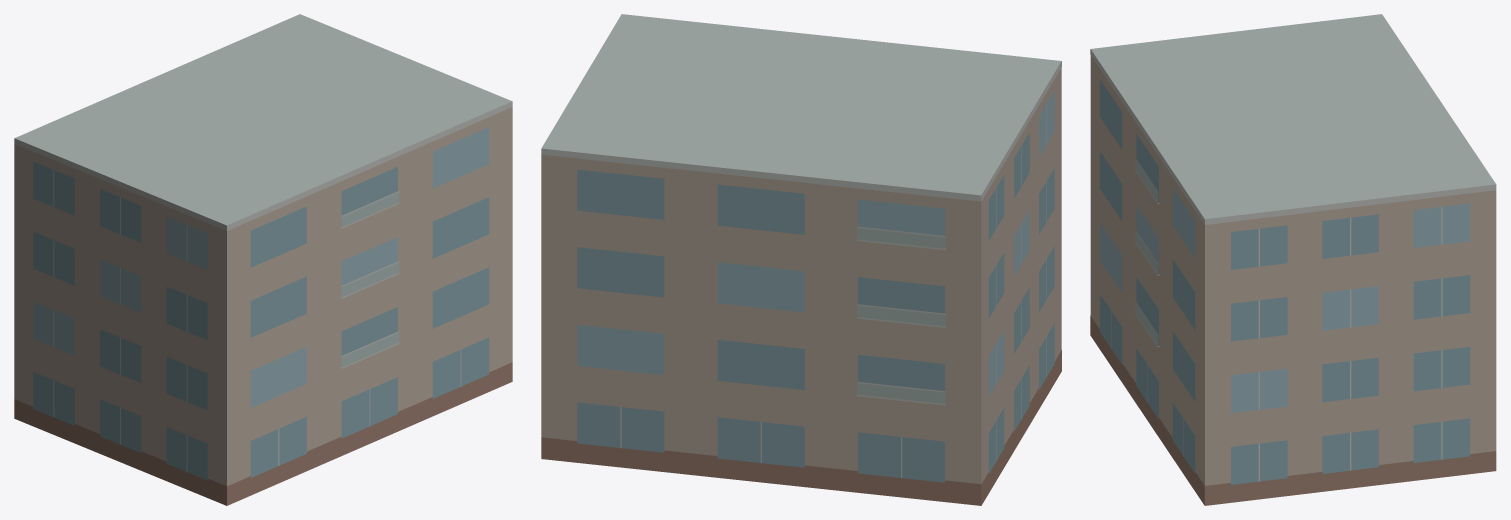
File: residential-536308db-47ff-41c2-a44e-21a0e63242f2.glb
3 renders of one model, left to right at view 1: azimuth 30°, elevation 25°; view 2: azimuth 150°, elevation 25°; view 3: azimuth 270°, elevation 25°, orthographic. The views are drawn at different scales.
Parts seen in each view (by area): view 1: residential-536308db-47ff-41c2-a44e-21a0e63242f2.tmp; view 2: residential-536308db-47ff-41c2-a44e-21a0e63242f2.tmp; view 3: residential-536308db-47ff-41c2-a44e-21a0e63242f2.tmp.
Boxes of the visible parts, <box> form: residential-536308db-47ff-41c2-a44e-21a0e63242f2.tmp: <box>14,14,512,505</box>; residential-536308db-47ff-41c2-a44e-21a0e63242f2.tmp: <box>541,14,1061,505</box>; residential-536308db-47ff-41c2-a44e-21a0e63242f2.tmp: <box>1090,14,1496,505</box>.
Bounding box in the file's own units: 18.75 × 12.2 × 15.66.
